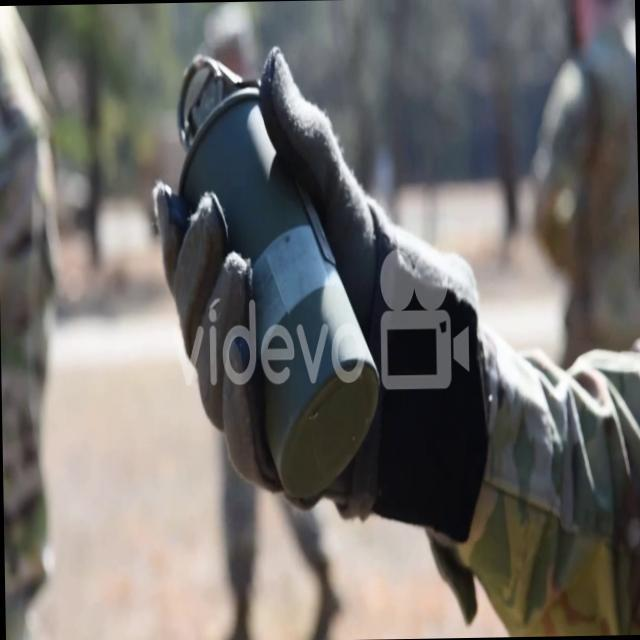grenade: (161, 44, 384, 512)
